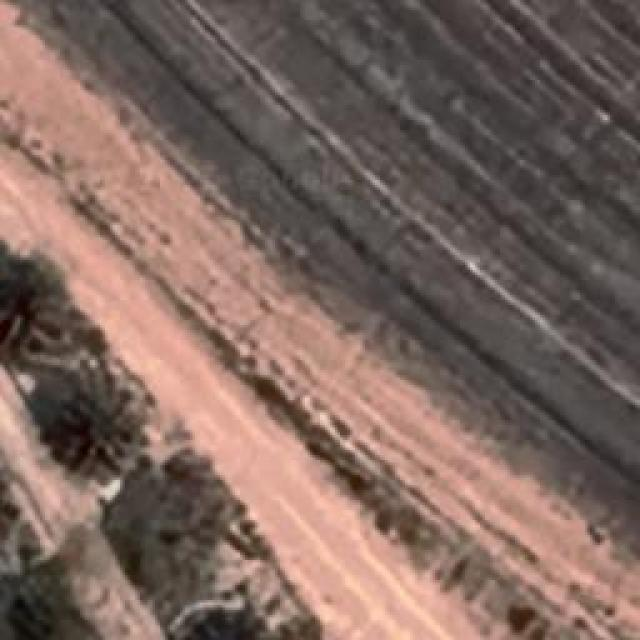PalmTree: (60, 370, 148, 482), (0, 262, 65, 366), (0, 569, 82, 640), (166, 603, 256, 640)
